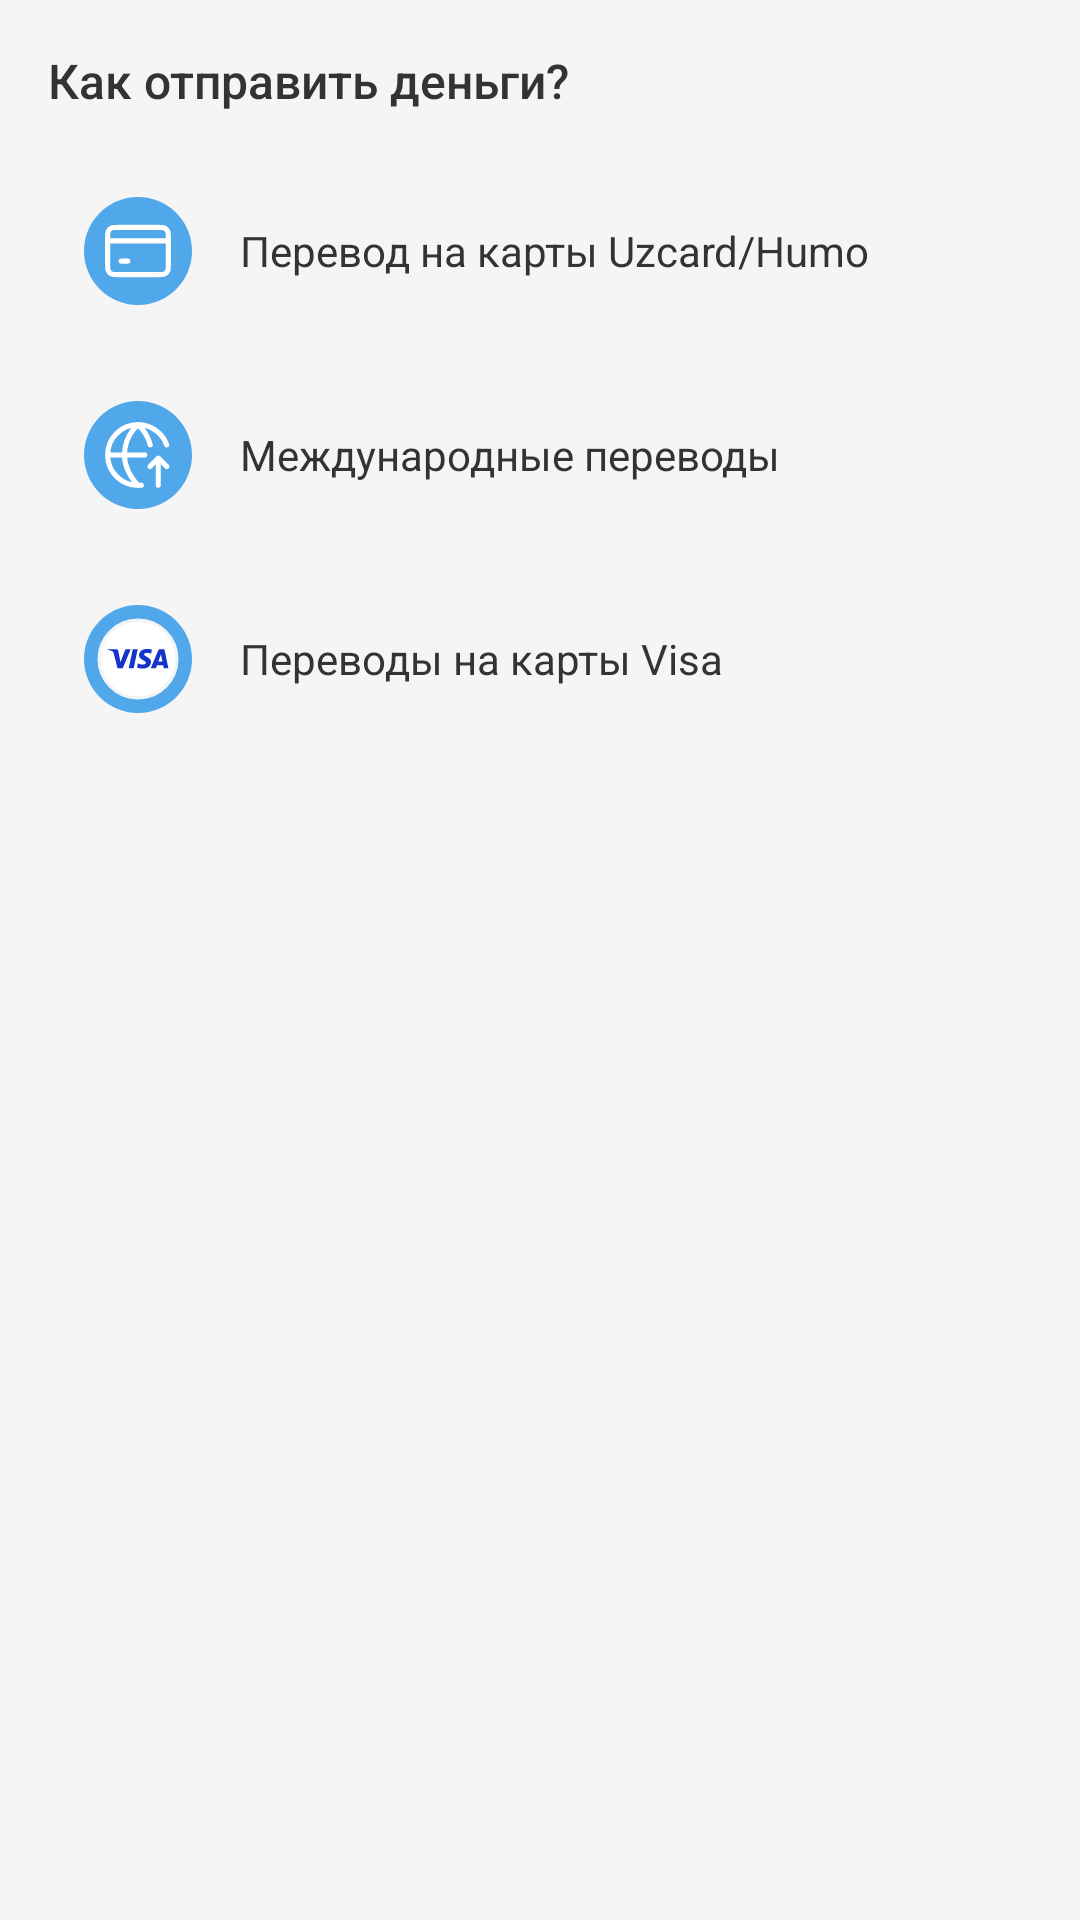

Screen size 1080w x 1920h. Icon name, then its center in pixels as point (x, y):
International Transfer Icon: point (138, 455)
transfer humo uzcard: point (138, 251)
